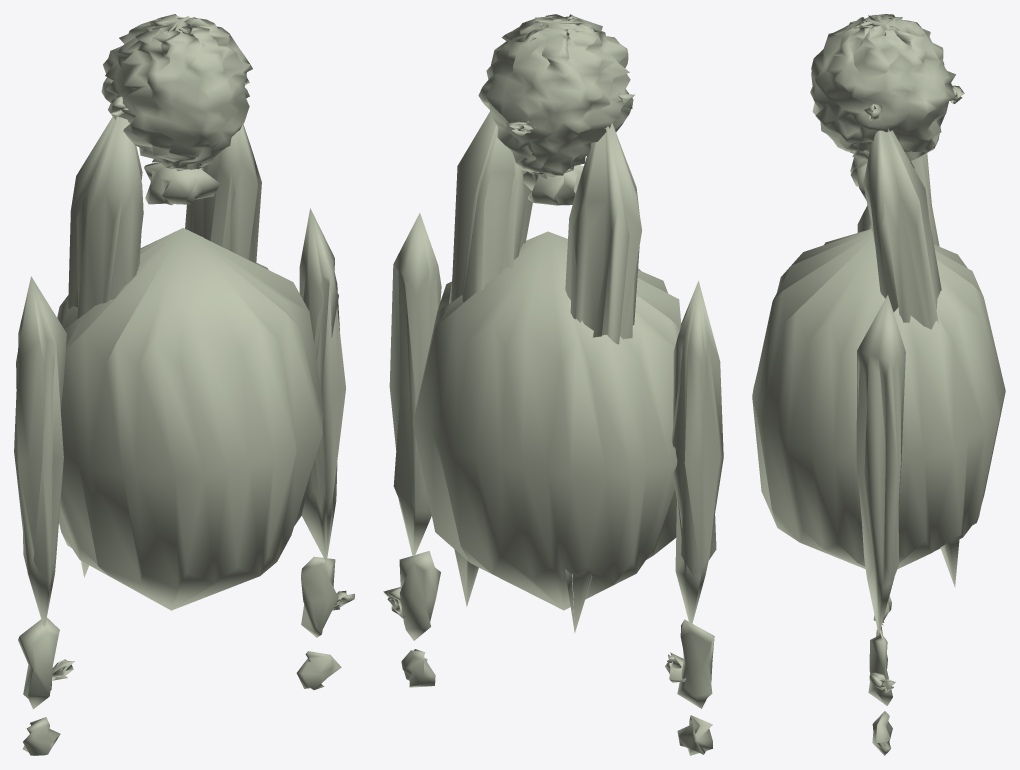
Rendered from zombie_spitter.glb.
3 views of the same model, side by side, from view 1: azimuth 30°, elevation 25°; view 2: azimuth 150°, elevation 25°; view 3: azimuth 270°, elevation 25° (orthographic). The views are drawn at different scales.
Visible parts, largest first — view 1: zombie_spitter; view 2: zombie_spitter; view 3: zombie_spitter.
Part boxes in pixels (x1=…): zombie_spitter: x1=14, y1=14, x2=354, y2=755; zombie_spitter: x1=383, y1=14, x2=723, y2=755; zombie_spitter: x1=752, y1=14, x2=1005, y2=755.
Bounding box in the file's own units: 0.5511 × 1.09 × 0.3765.
